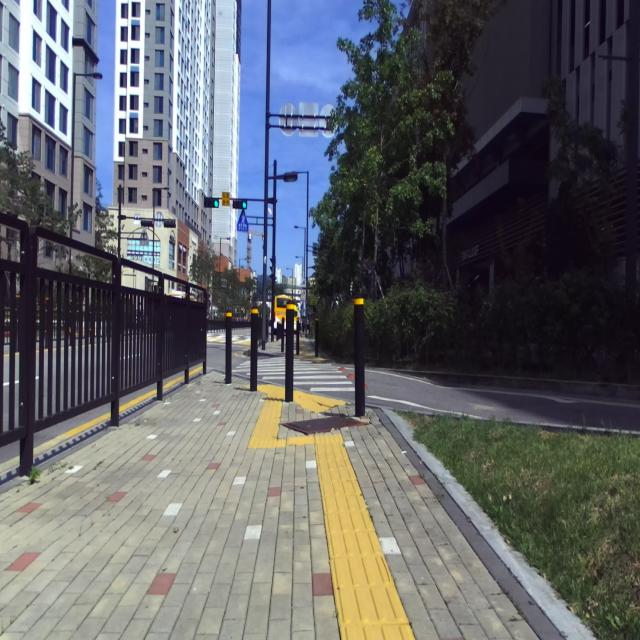횡단보도: (232, 356, 356, 392)
